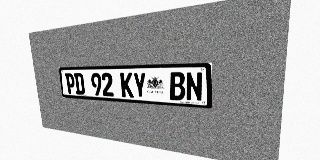2: (101, 73, 114, 96)
9: (90, 73, 103, 96)
B: (169, 72, 185, 101)
D: (74, 73, 85, 95)
K: (120, 72, 134, 98)
N: (186, 72, 203, 102)
P: (65, 73, 76, 94)
Y: (133, 72, 147, 98)
